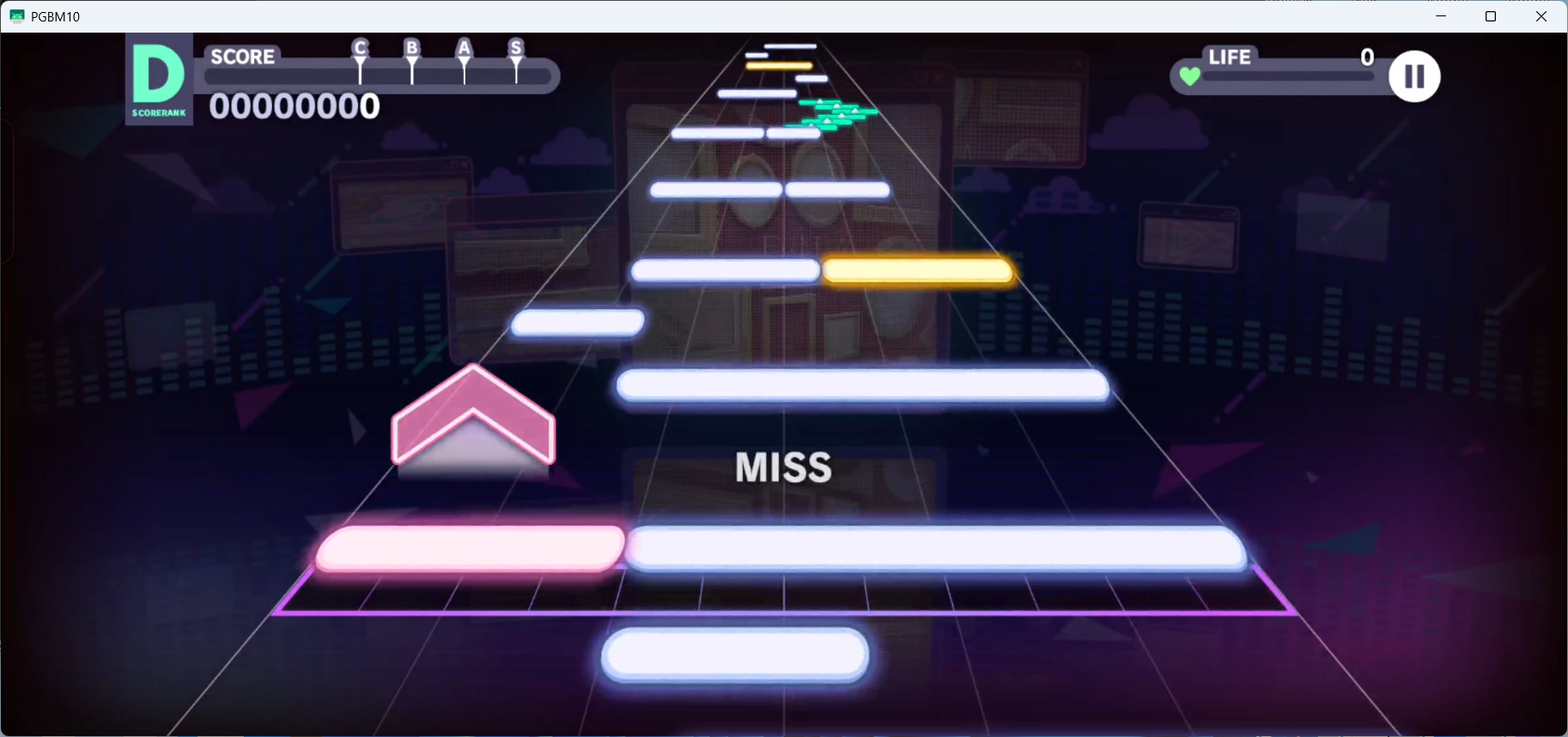flick: (390, 361, 556, 486)
sweep: (799, 97, 842, 106), (785, 124, 837, 131), (816, 103, 860, 110), (802, 118, 852, 124), (818, 113, 866, 119), (832, 108, 878, 114)
tap: (625, 525, 1248, 572), (616, 369, 1110, 403), (315, 525, 624, 575), (599, 625, 869, 682), (821, 257, 1013, 282), (630, 257, 821, 282), (511, 308, 645, 339), (650, 182, 782, 199), (785, 182, 890, 198), (671, 128, 764, 138), (717, 89, 797, 99), (767, 128, 821, 139), (746, 62, 812, 69), (763, 44, 817, 49), (795, 75, 828, 82), (745, 52, 769, 57)
